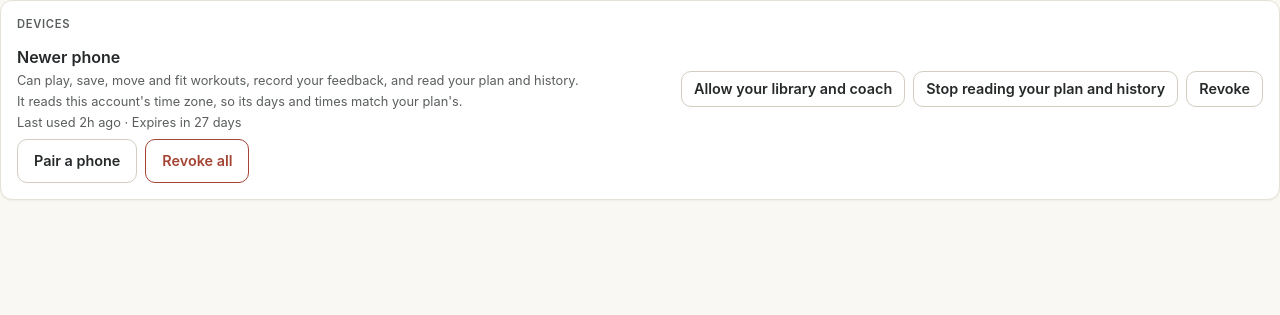
Scenario: Settings → Devices › a v4 phone's grant of v5 (DESIGN-3 §3.5): its button, the one line saying what it allows and that it shares nothing of the day, then Allow grants it
Click the button "Allow your library and coach": (793, 89) [681,71,905,107]
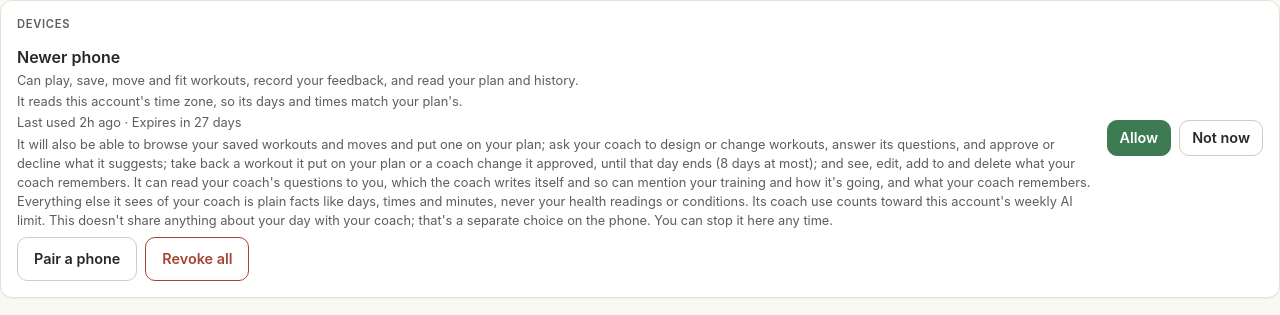
Click the button "Allow": (1139, 138) [1106,120,1171,156]
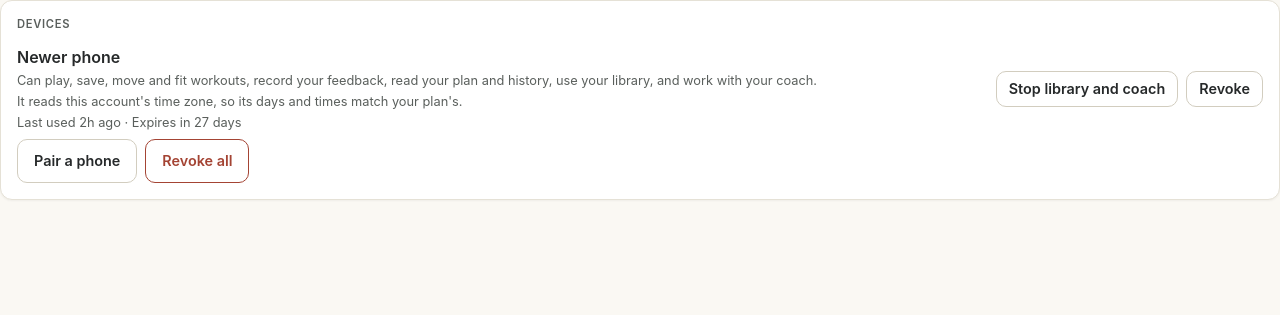
Expected: the element with class "setting-row" shows "Can play, save, move and fit workouts, record your feedback, read your plan and history, use your library, and work with your coach.", [17,39,1263,139]
